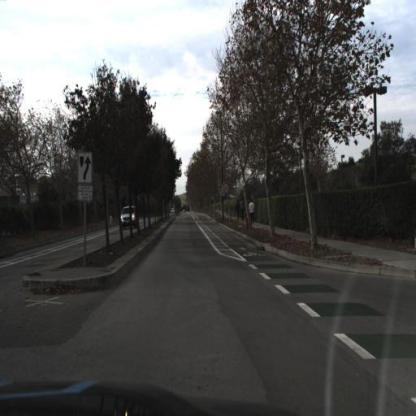car: (120, 203, 139, 236), (119, 205, 140, 233)
pedestrian: (249, 199, 258, 225), (248, 200, 256, 226), (242, 198, 247, 224), (236, 198, 241, 222)
